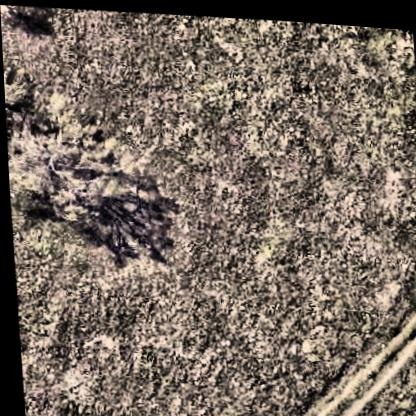tree-top: (4, 96, 126, 231), (6, 3, 59, 36)
